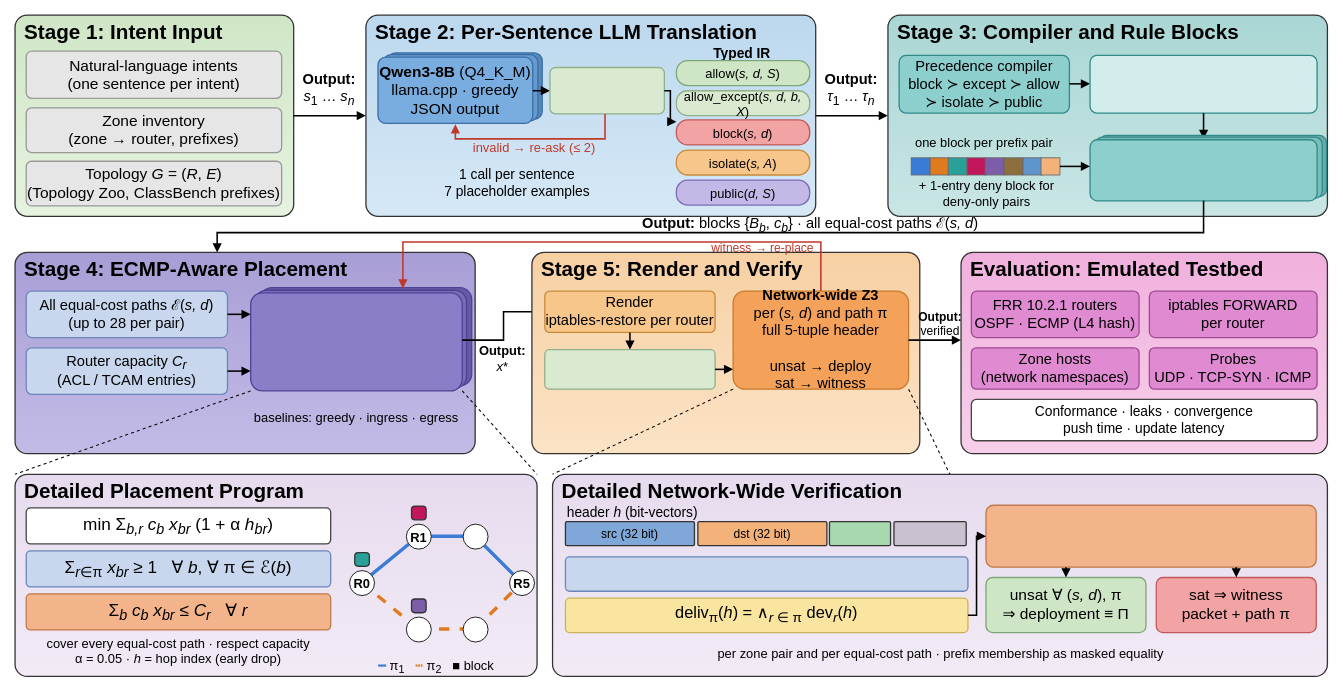
The diagram is 1343 pixels wide and 692 high, and some of its shapes have lost their labels. Here are the shapes that lost their labels. From the top down, the box of each, then its label:
(549, 66, 665, 114): Validator type · zones · services
(1089, 54, 1317, 113): Zone policy Π (first match, default deny)
(1089, 139, 1317, 201): Prefix-pair blocks B p,p ′ disjoint · idempotent · cost c b
(250, 292, 463, 391): Placement ILP x br ∈ {0, 1} SciPy · HiGHS (≤ 30 s)
(544, 349, 715, 389): Independent parser (no access to blocks)
(462, 523, 488, 549): R3
(828, 521, 891, 546): proto (8)
(893, 521, 966, 546): port (16)
(985, 504, 1316, 567): SAT? src ∈ P ( s ) ∧ dst ∈ P ( d ) ∧ deliv π ( h ) ≠ Π( s, d, h )
(564, 556, 968, 592): dev r ( h ) = first match of parsed rules of r , else forward
(405, 616, 431, 642): R2
(462, 616, 488, 642): R4
